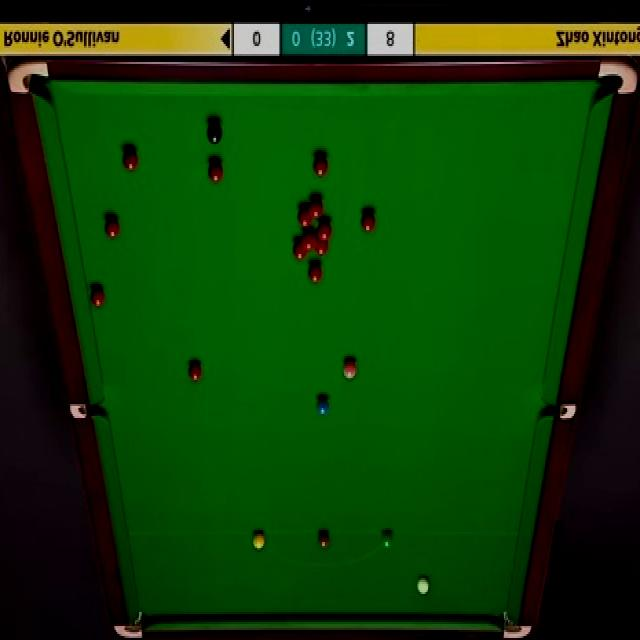black-ball: (207, 117, 223, 144)
blue-ball: (316, 395, 330, 418)
brown-ball: (318, 530, 330, 552)
green-ball: (380, 529, 393, 548)
pink-ball: (343, 359, 357, 380)
red-ball: (360, 208, 378, 235), (121, 146, 139, 173), (88, 282, 105, 308), (104, 215, 120, 242), (313, 153, 328, 179), (208, 160, 224, 184), (297, 204, 312, 229), (308, 260, 322, 284), (292, 238, 306, 262), (310, 195, 323, 218), (188, 362, 202, 383), (318, 219, 331, 240), (315, 235, 328, 255), (302, 232, 315, 251)
white-ball: (415, 572, 431, 598)
yellow-ball: (252, 529, 265, 550)
